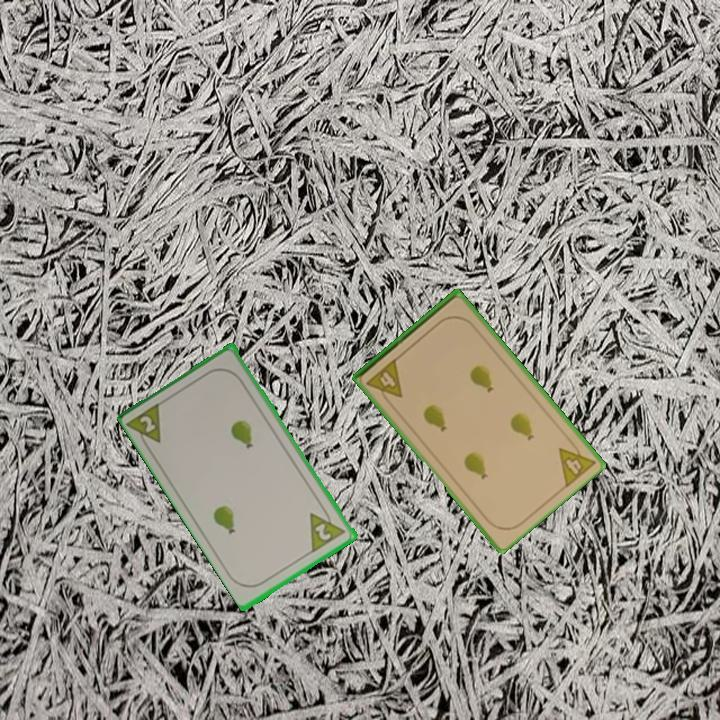2p: (306, 502, 349, 555), (125, 398, 165, 454)
4p: (555, 434, 598, 490), (363, 355, 406, 408)
